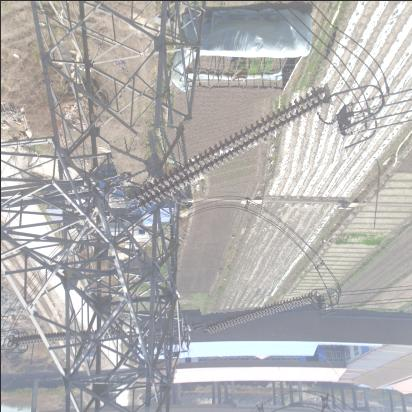insulator: (112, 97, 345, 204), (201, 294, 320, 334)
